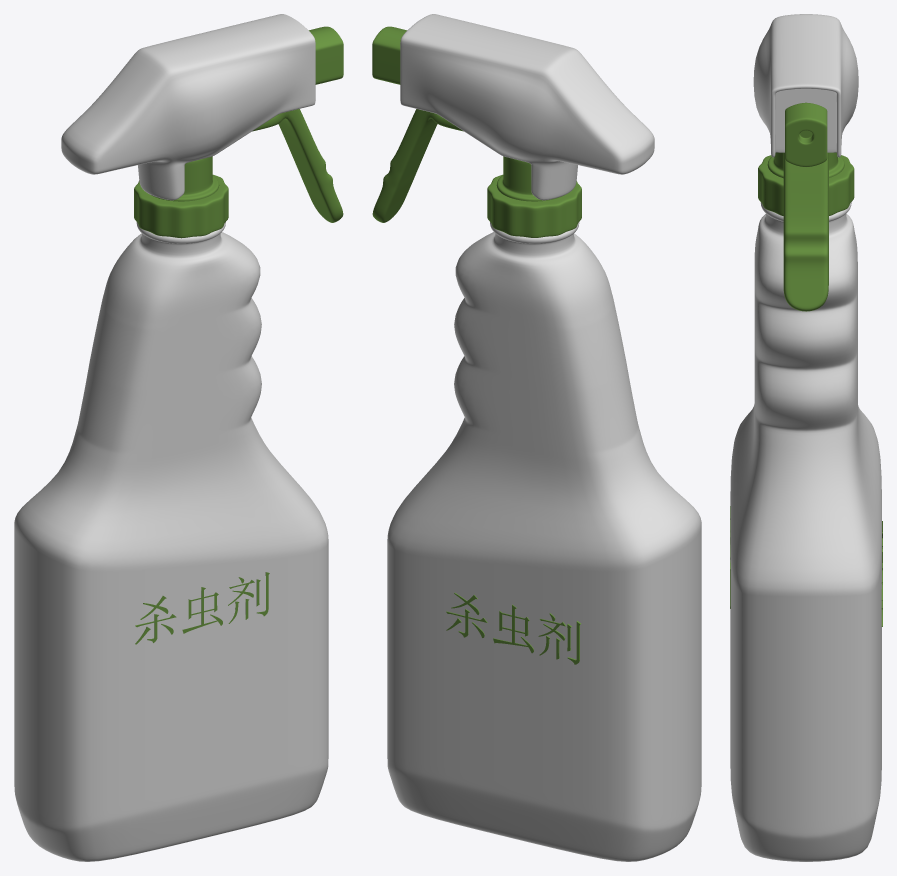
File: cq_killBug.fbx
The picture shows the model from 3 angles, left to right: view 1: azimuth 30°, elevation 25°; view 2: azimuth 150°, elevation 25°; view 3: azimuth 270°, elevation 25°; orthographic projection.
Parts seen in each view (by area): view 1: bottle, head_cover, screw_top, trigger, typeMesh1, nozzel, topper; view 2: bottle, head_cover, screw_top, trigger, pasted__typeMesh1, nozzel, topper; view 3: bottle, head_cover, trigger, nozzel, screw_top, separator, topper.
Boxes of the visible parts, x1,y1,x2,y2 form: bottle: (14, 222, 328, 861); head_cover: (61, 14, 315, 200); screw_top: (134, 174, 228, 238); trigger: (252, 109, 343, 222); typeMesh1: (135, 572, 269, 644); nozzel: (309, 26, 343, 84); topper: (151, 156, 219, 201); bottle: (387, 222, 701, 861); head_cover: (400, 14, 654, 200); screw_top: (487, 174, 581, 237); trigger: (372, 109, 463, 222); pasted__typeMesh1: (446, 593, 581, 664); nozzel: (372, 26, 406, 84); topper: (496, 156, 564, 201); bottle: (730, 202, 881, 861); head_cover: (753, 14, 858, 157); trigger: (783, 152, 828, 311); nozzel: (785, 102, 827, 166); screw_top: (758, 155, 854, 215); separator: (775, 88, 836, 152); topper: (767, 152, 844, 178).
Size of the model in its own units: 83.72 by 199 by 35.4.
